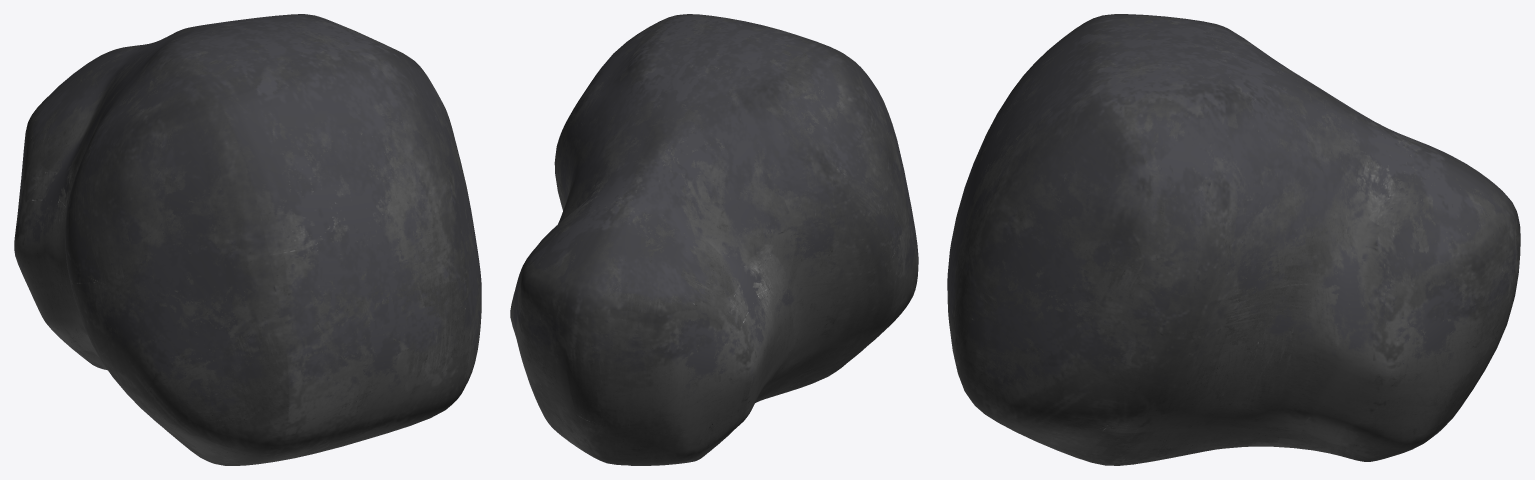
File: bot_part_07.gltf
3 renders of one model, left to right at view 1: azimuth 30°, elevation 25°; view 2: azimuth 150°, elevation 25°; view 3: azimuth 270°, elevation 25°, orthographic. The views are drawn at different scales.
Visible parts, largest first — view 1: bot_part_07; view 2: bot_part_07; view 3: bot_part_07.
Part boxes in pixels (x1,y1,x2,y2): bot_part_07: (14, 14, 481, 465); bot_part_07: (510, 14, 918, 465); bot_part_07: (947, 14, 1520, 465).
Size of the model in its own units: 0.792 by 0.8041 by 1.06.
1 material, 1 textured.
